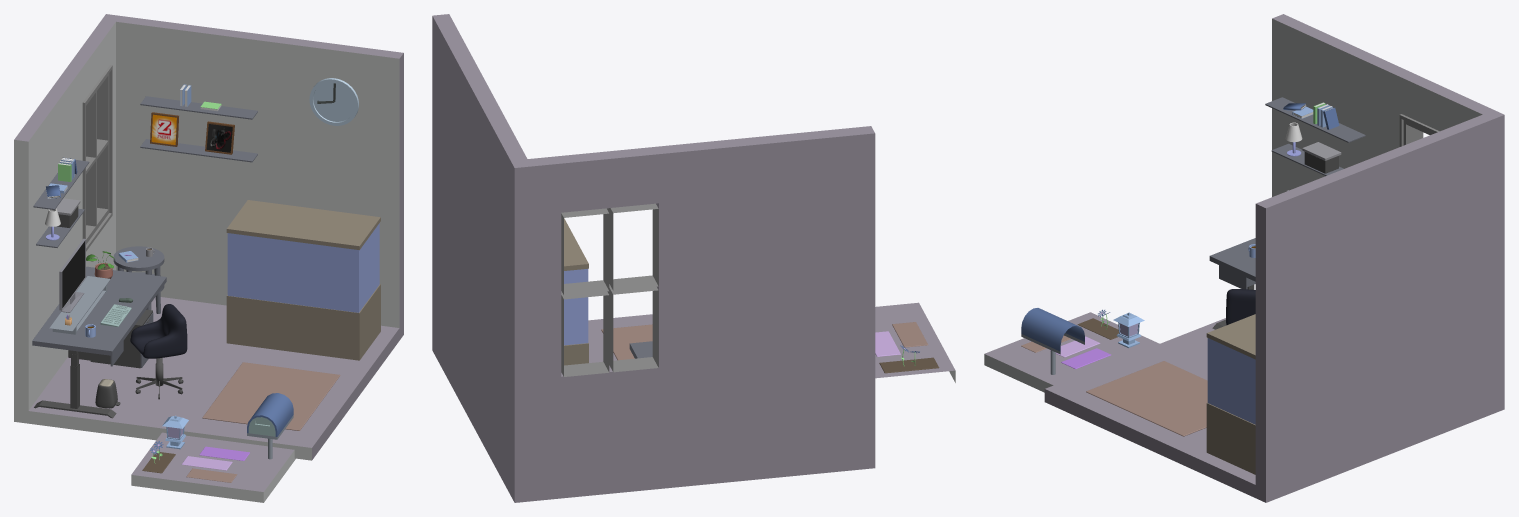
The model's file is room8.glb.
3 renders of one model, left to right at view 1: azimuth 30°, elevation 25°; view 2: azimuth 150°, elevation 25°; view 3: azimuth 270°, elevation 25°, orthographic. The views are drawn at different scales.
Parts seen in each view (by area): view 1: Body, Aquarium, Desks, Floor Items, Mini Floor, Shelves, Table Stuff, Chair, Clock, Mailbox, Computer, Shelves2 (+5 smaller); view 2: Body, Mini Floor, Aquarium, Floor Items, Dirt, FloorThird; view 3: Body, Aquarium, Floor Items, Mini Floor, Shelves, Mailbox, Desks, Chair, Lamp.
Boxes of the visible parts, x1,y1,x2,y2 form: Body: [14, 14, 403, 460]; Aquarium: [226, 200, 380, 360]; Desks: [32, 246, 166, 418]; Floor Items: [90, 309, 340, 430]; Mini Floor: [131, 432, 295, 502]; Shelves: [33, 84, 257, 247]; Table Stuff: [49, 247, 154, 337]; Chair: [130, 304, 187, 358]; Clock: [309, 78, 358, 125]; Mailbox: [247, 393, 293, 459]; Computer: [59, 238, 85, 312]; Shelves2: [150, 112, 178, 146]; Body: [432, 14, 875, 502]; Mini Floor: [875, 302, 955, 382]; Aquarium: [564, 218, 588, 365]; Floor Items: [601, 324, 652, 360]; Dirt: [879, 357, 939, 373]; FloorThird: [892, 322, 928, 347]; Body: [1044, 14, 1504, 502]; Aquarium: [1206, 314, 1255, 474]; Floor Items: [1086, 361, 1207, 436]; Mini Floor: [984, 312, 1159, 392]; Shelves: [1265, 97, 1365, 175]; Mailbox: [1021, 308, 1084, 374]; Desks: [1209, 238, 1255, 329]; Chair: [1226, 289, 1255, 325]; Lamp: [1113, 312, 1144, 347].
Size of the model in its own units: 27.58 by 19.65 by 31.21.
46 materials, 2 textured.
